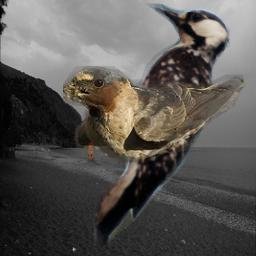Swallow: (63, 66, 246, 165)
Woodpecker: (87, 1, 246, 255)
